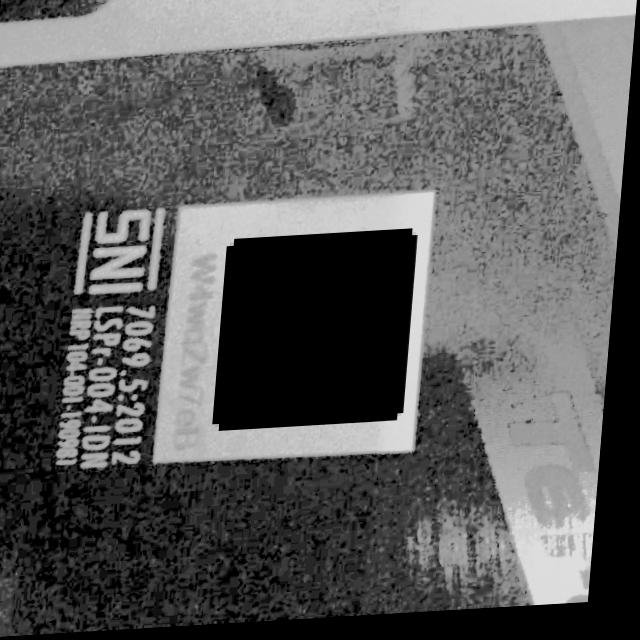qr_code: (222, 238, 419, 430)
